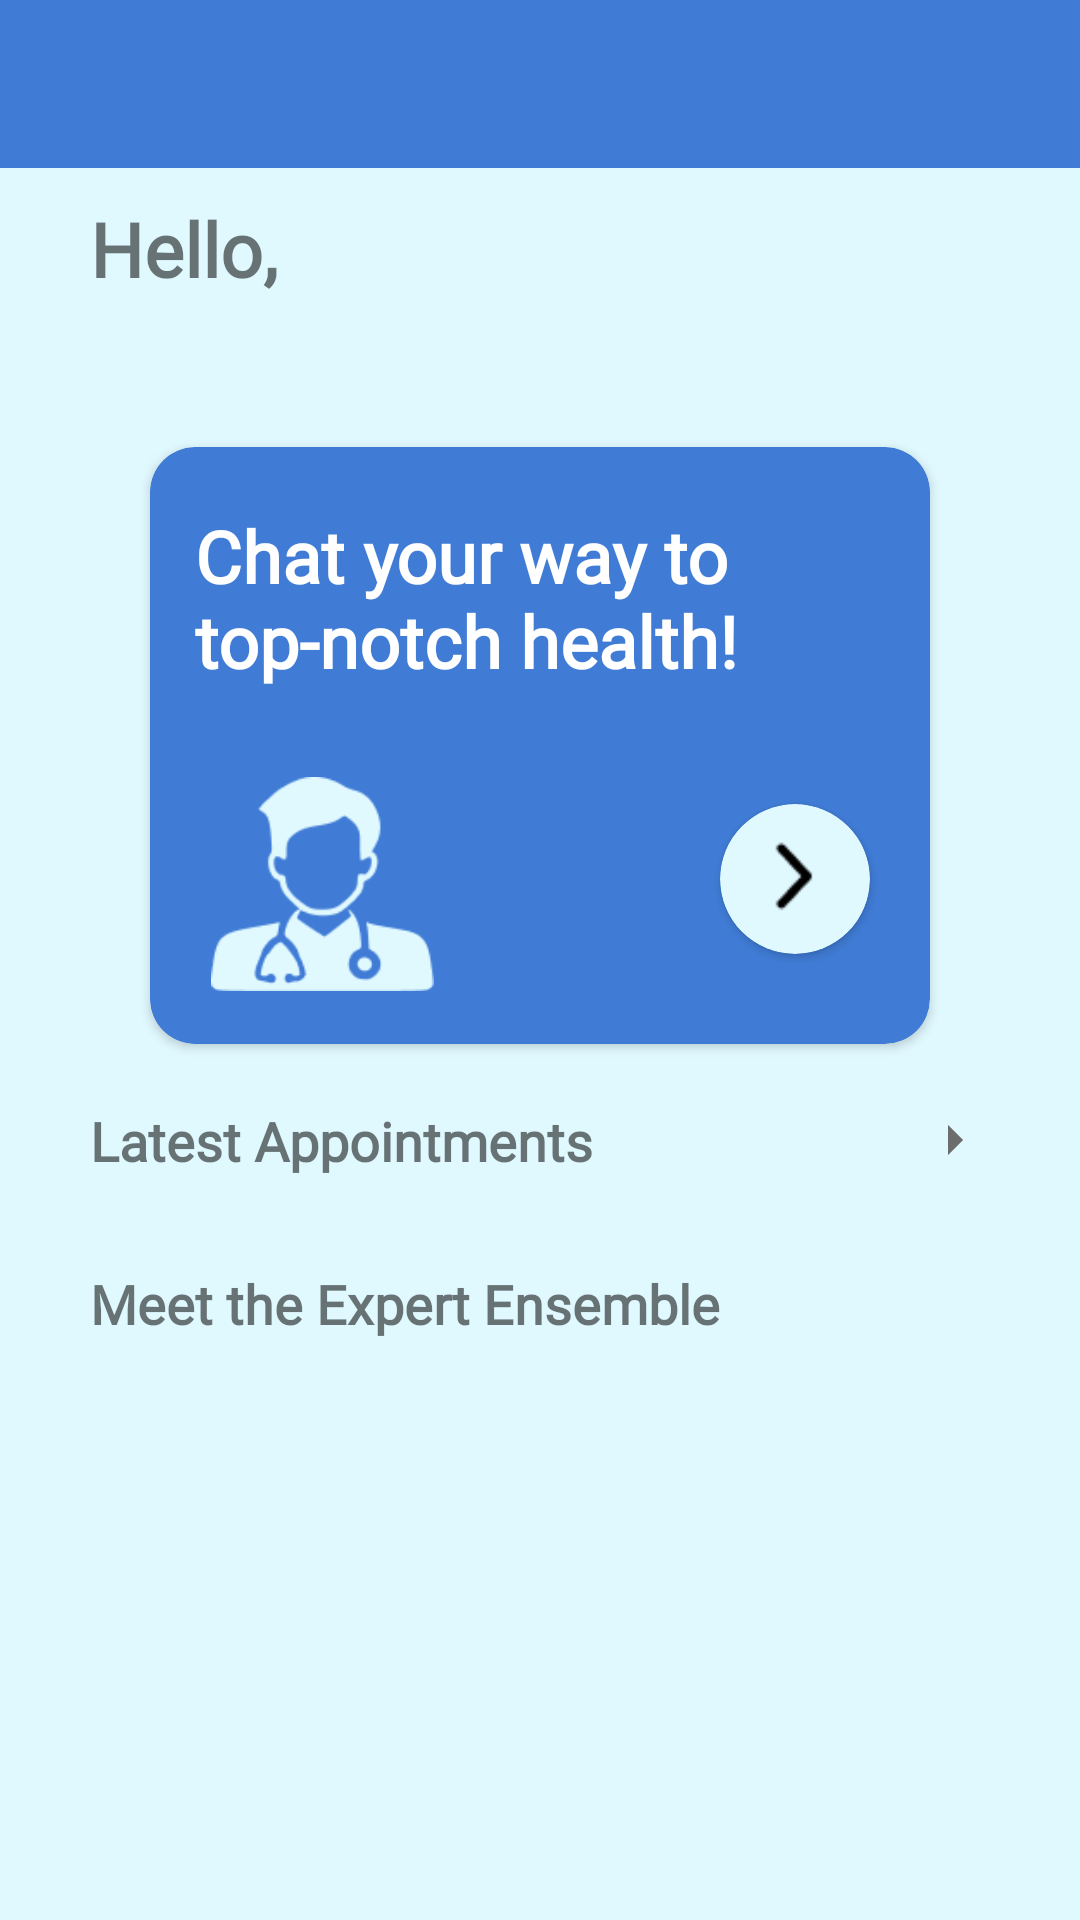

Screen size 1080w x 1920h. Icon name, then its box in pixels as (x1, y1, x2, y2):
arrow: (775, 842, 813, 910)
arrow right: (948, 1125, 963, 1155)
doctor: (211, 777, 434, 991)
